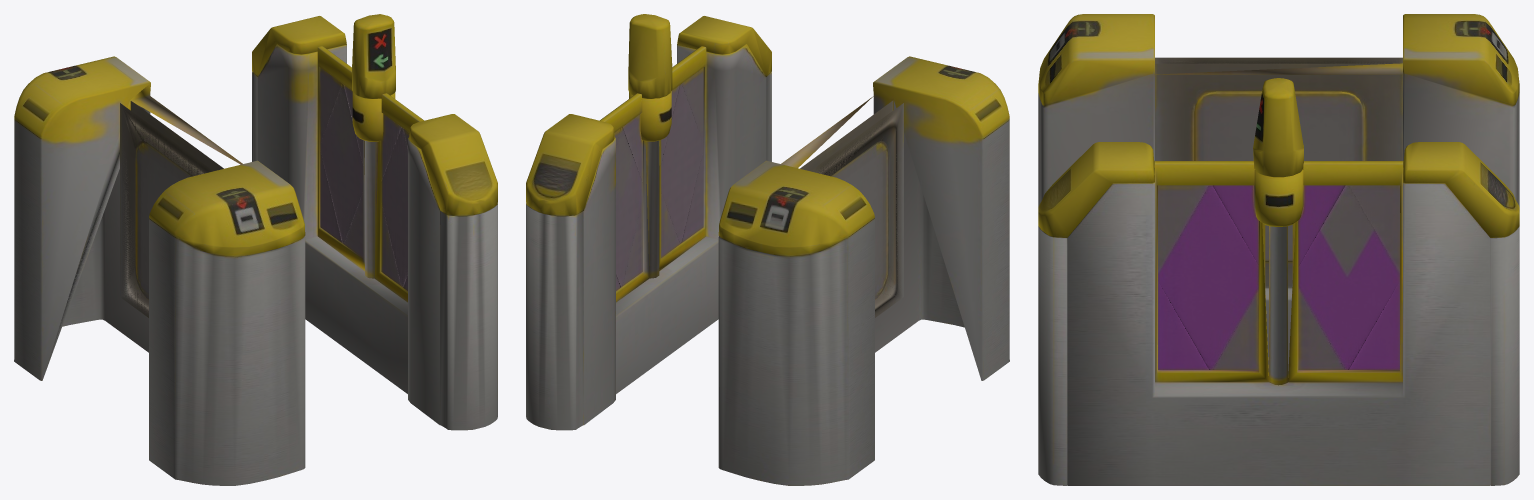
The model's file is turnstile+gate+3d+model.glb.
3 renders of one model, left to right at view 1: azimuth 30°, elevation 25°; view 2: azimuth 150°, elevation 25°; view 3: azimuth 270°, elevation 25°, orthographic. The views are drawn at different scales.
Parts seen in each view (by area): view 1: tripo_node_4551f212-837a-47fa-95ce-fa4024150444; view 2: tripo_node_4551f212-837a-47fa-95ce-fa4024150444; view 3: tripo_node_4551f212-837a-47fa-95ce-fa4024150444.
Part boxes in pixels (x1,y1,x2,y2): tripo_node_4551f212-837a-47fa-95ce-fa4024150444: [14, 14, 497, 485]; tripo_node_4551f212-837a-47fa-95ce-fa4024150444: [526, 14, 1009, 485]; tripo_node_4551f212-837a-47fa-95ce-fa4024150444: [1038, 14, 1519, 485].
Bounding box in the file's own units: 0.8496 × 0.8809 × 0.998.
1 material, 1 textured.
